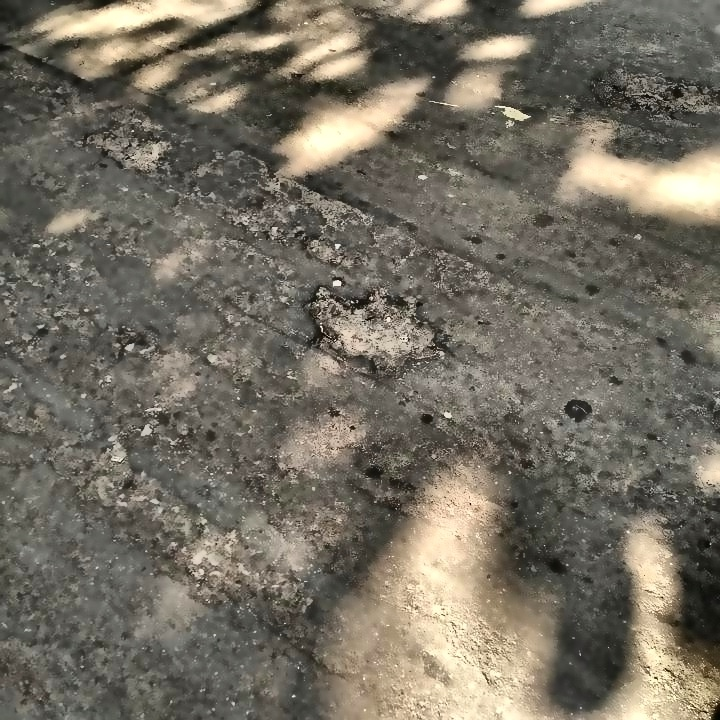pothole: (301, 281, 448, 374), (586, 65, 720, 119)
